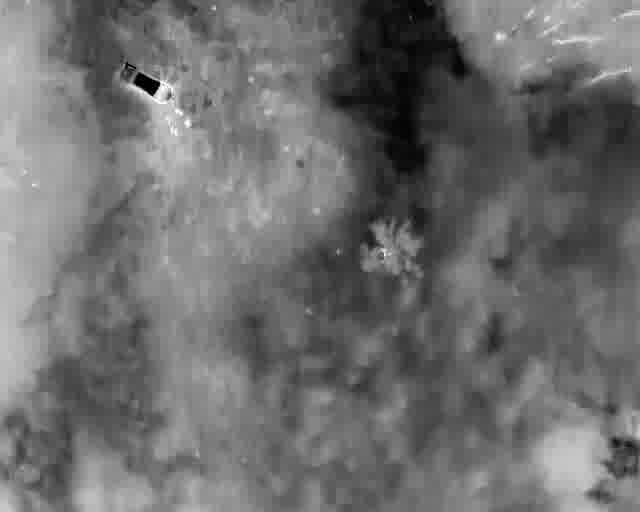car: (115, 60, 177, 106)
person: (183, 117, 193, 130), (163, 115, 176, 124), (168, 127, 179, 136), (174, 108, 184, 116)
